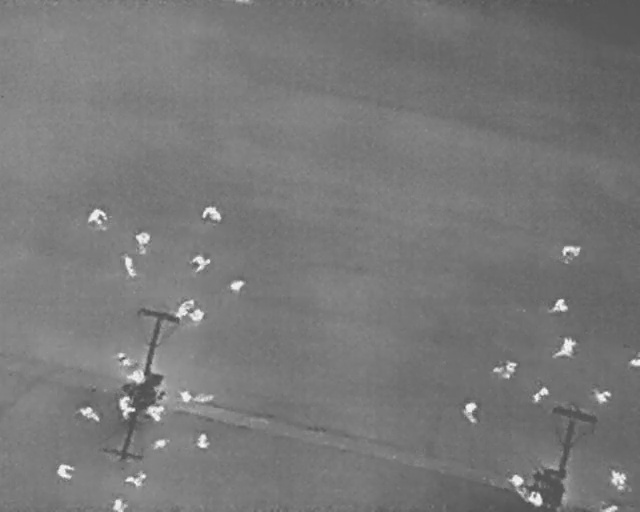Person: (552, 333, 579, 364), (118, 248, 140, 282), (170, 294, 197, 321), (114, 393, 138, 421), (75, 402, 104, 424), (188, 252, 211, 276), (87, 205, 109, 229), (528, 384, 552, 406), (149, 433, 172, 454), (54, 461, 77, 482), (462, 401, 480, 426), (491, 361, 517, 378), (201, 204, 223, 224), (608, 469, 627, 492), (176, 385, 195, 406), (145, 402, 164, 423), (592, 386, 613, 405), (134, 231, 150, 254), (124, 472, 147, 488), (548, 296, 568, 314), (113, 350, 131, 369), (226, 279, 246, 293), (110, 497, 129, 511), (562, 244, 582, 257), (195, 433, 211, 449), (508, 472, 524, 488), (528, 489, 543, 506), (126, 369, 144, 383), (189, 310, 205, 323), (628, 352, 640, 368), (601, 503, 618, 511)
